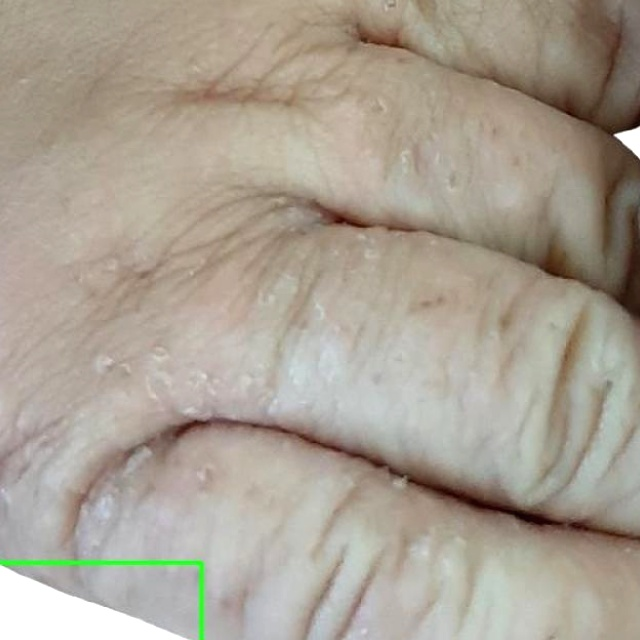Scabies: (0, 562, 202, 639)
